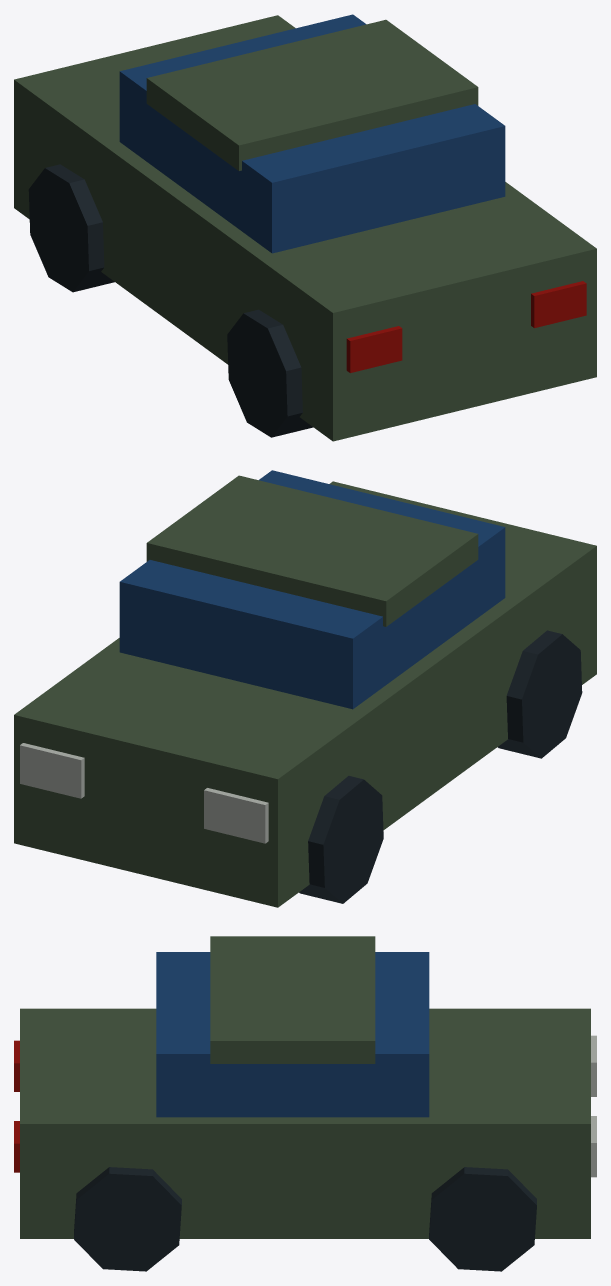
File: car-sage.glb
The picture shows the model from 3 angles, top to bottom: view 1: azimuth 30°, elevation 25°; view 2: azimuth 150°, elevation 25°; view 3: azimuth 270°, elevation 25°; orthographic projection. The views are drawn at different scales.
Parts seen in each view (by area): view 1: car-sage; view 2: car-sage; view 3: car-sage.
Boxes of the visible parts, bbox=[...] form: car-sage: bbox=[14, 14, 596, 441]; car-sage: bbox=[14, 470, 596, 907]; car-sage: bbox=[14, 936, 596, 1271].
Bounding box in the file's own units: 4.8 × 3.8 × 9.19.
